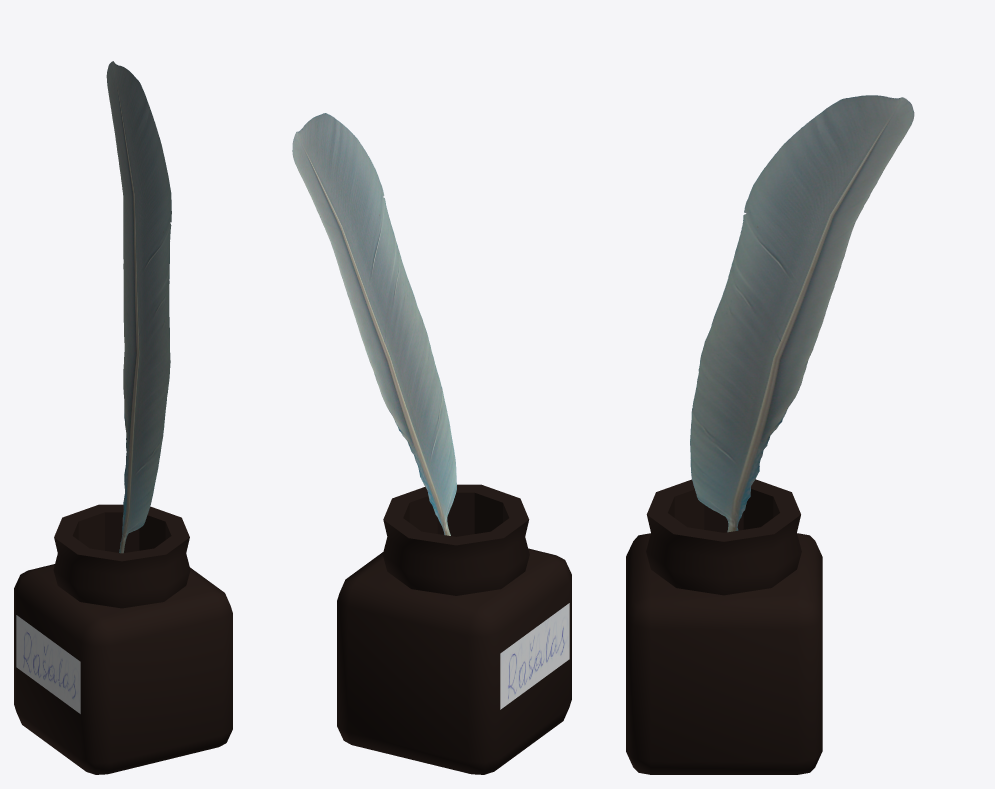
The model's file is InkBottle.FBX.
3 views of the same model, side by side, from view 1: azimuth 30°, elevation 25°; view 2: azimuth 150°, elevation 25°; view 3: azimuth 270°, elevation 25° (orthographic). The views are drawn at different scales.
Parts seen in each view (by area): view 1: Cylinder001, Plane002; view 2: Cylinder001, Plane002; view 3: Cylinder001, Plane002.
Boxes of the visible parts, bbox=[...] form: Cylinder001: bbox=[14, 504, 232, 774]; Plane002: bbox=[106, 61, 171, 553]; Cylinder001: bbox=[337, 484, 571, 774]; Plane002: bbox=[292, 113, 456, 535]; Cylinder001: bbox=[626, 479, 822, 774]; Plane002: bbox=[690, 95, 914, 532].
Size of the model in its own units: 1.59 by 6.83 by 3.05.
3 materials, 2 textured.
